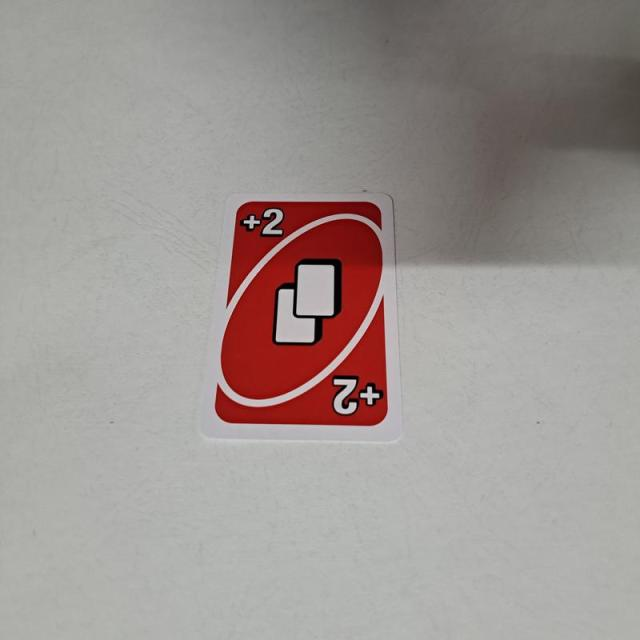Draw_Two: (236, 203, 288, 246)
Red_Card: (212, 196, 397, 432)
